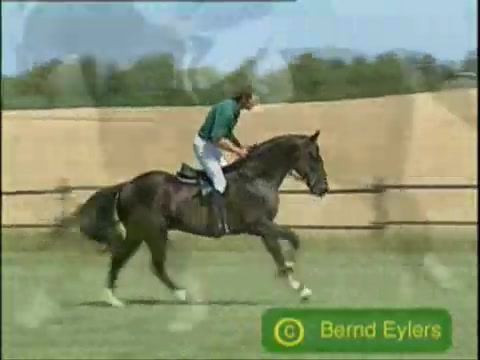horse: (54, 130, 330, 308)
